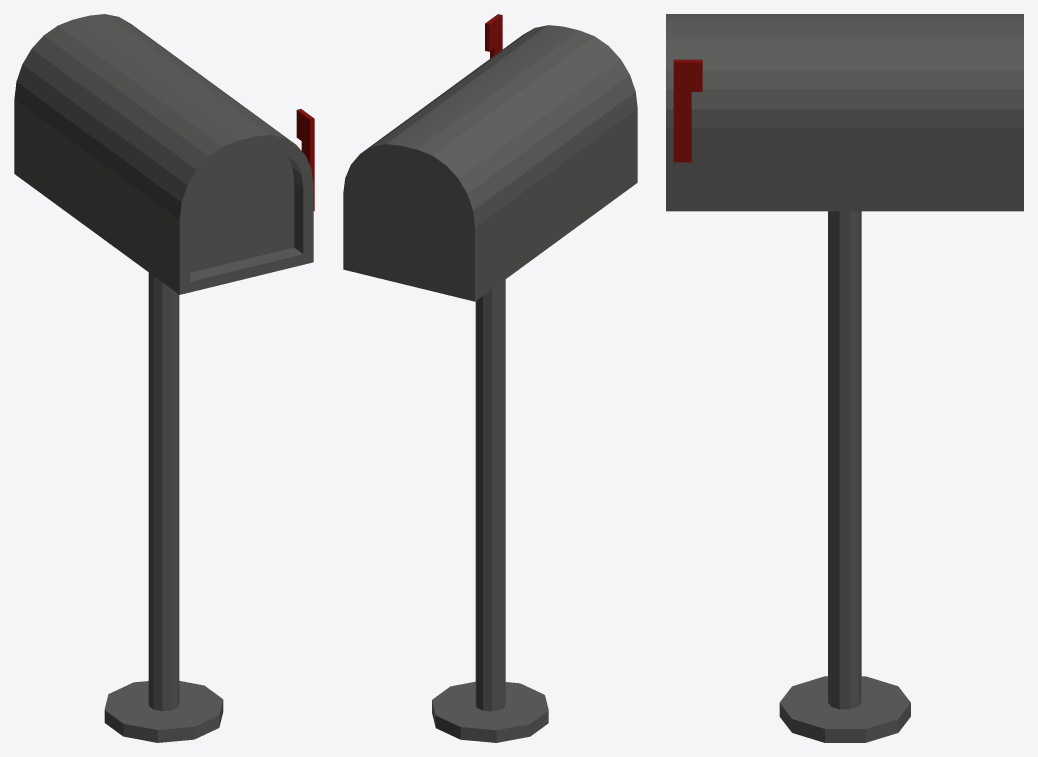
The model's file is Boite aux lettres.fbx.
The picture shows the model from 3 angles, left to right: view 1: azimuth 30°, elevation 25°; view 2: azimuth 150°, elevation 25°; view 3: azimuth 270°, elevation 25°; orthographic projection. The views are drawn at different scales.
Visible parts, largest first — view 1: Cube; view 2: Cube; view 3: Cube.
Boxes of the visible parts, x1,y1,x2,y2 form: Cube: (14,14,314,742); Cube: (343,14,637,742); Cube: (666,14,1023,742).
Size of the model in its own units: 49.85 by 220 by 103.
